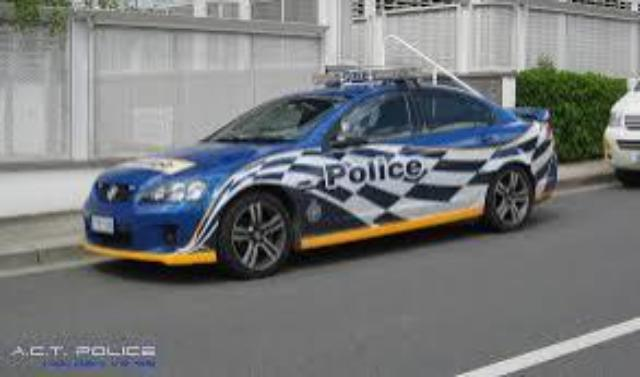police_car: (76, 63, 559, 282)
